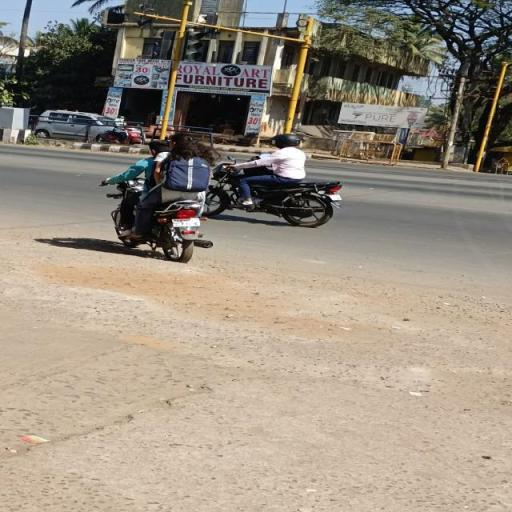bike: (97, 130, 220, 264)
withouthelmet: (170, 132, 195, 148), (149, 141, 172, 155)
